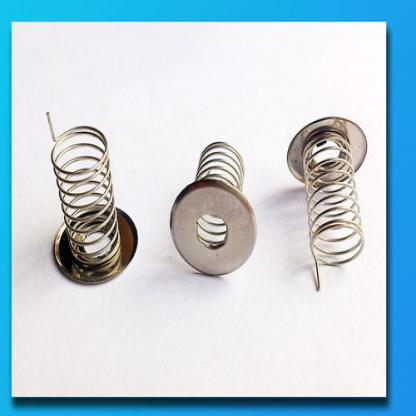FOD: (44, 109, 124, 278), (302, 123, 363, 299), (189, 139, 245, 256)
